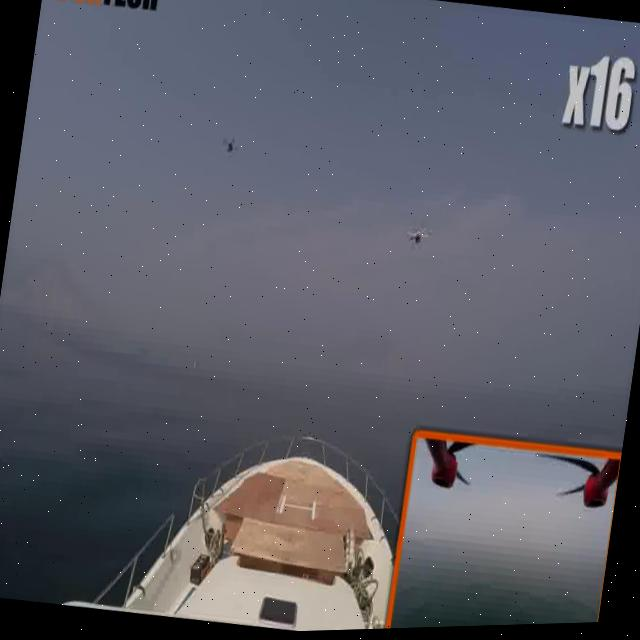drone: (202, 104, 258, 194)
